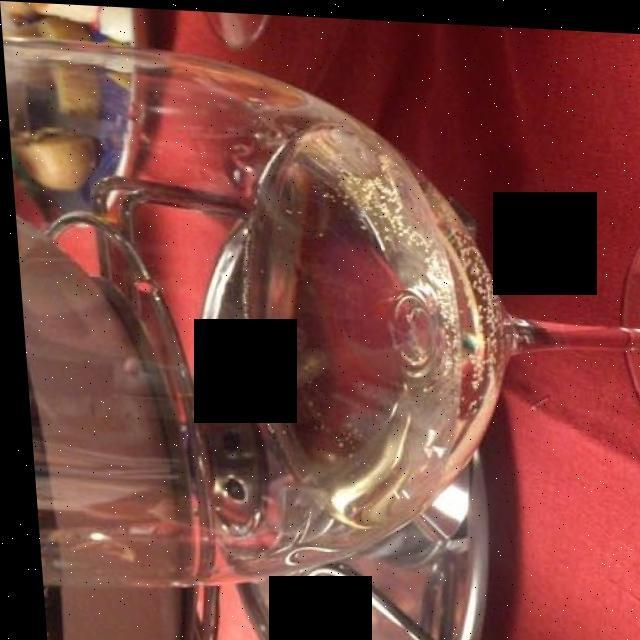wine: (242, 113, 488, 561)
